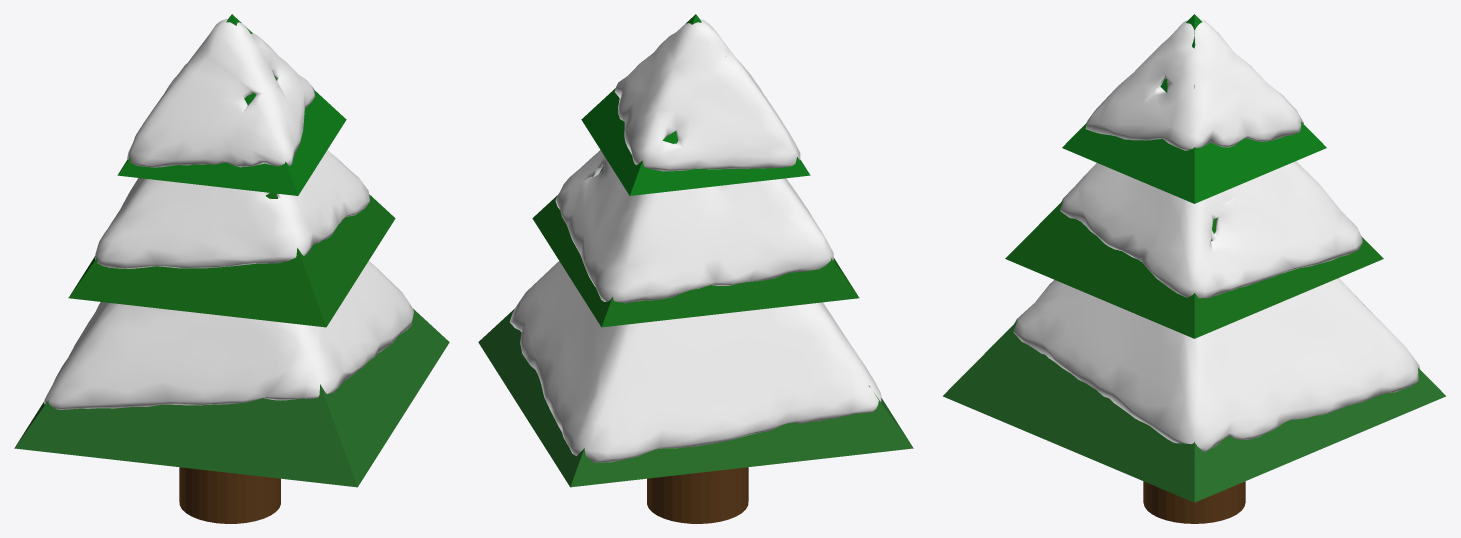
The model's file is TeiseiTreeWithSnow.fbx.
3 renders of one model, left to right at view 1: azimuth 30°, elevation 25°; view 2: azimuth 150°, elevation 25°; view 3: azimuth 270°, elevation 25°, orthographic.
Parts seen in each view (by area): view 1: SnowBall.001, 円錐.005; view 2: SnowBall.001, 円錐.005; view 3: SnowBall.001, 円錐.005.
Boxes of the visible parts, x1,y1,x2,y2 form: SnowBall.001: (44, 19, 413, 409); 円錐.005: (14, 14, 449, 523); SnowBall.001: (509, 19, 881, 462); 円錐.005: (478, 14, 913, 523); SnowBall.001: (1013, 19, 1420, 452); 円錐.005: (943, 14, 1445, 523).
Bounding box in the file's own units: 577 × 618 × 577.
